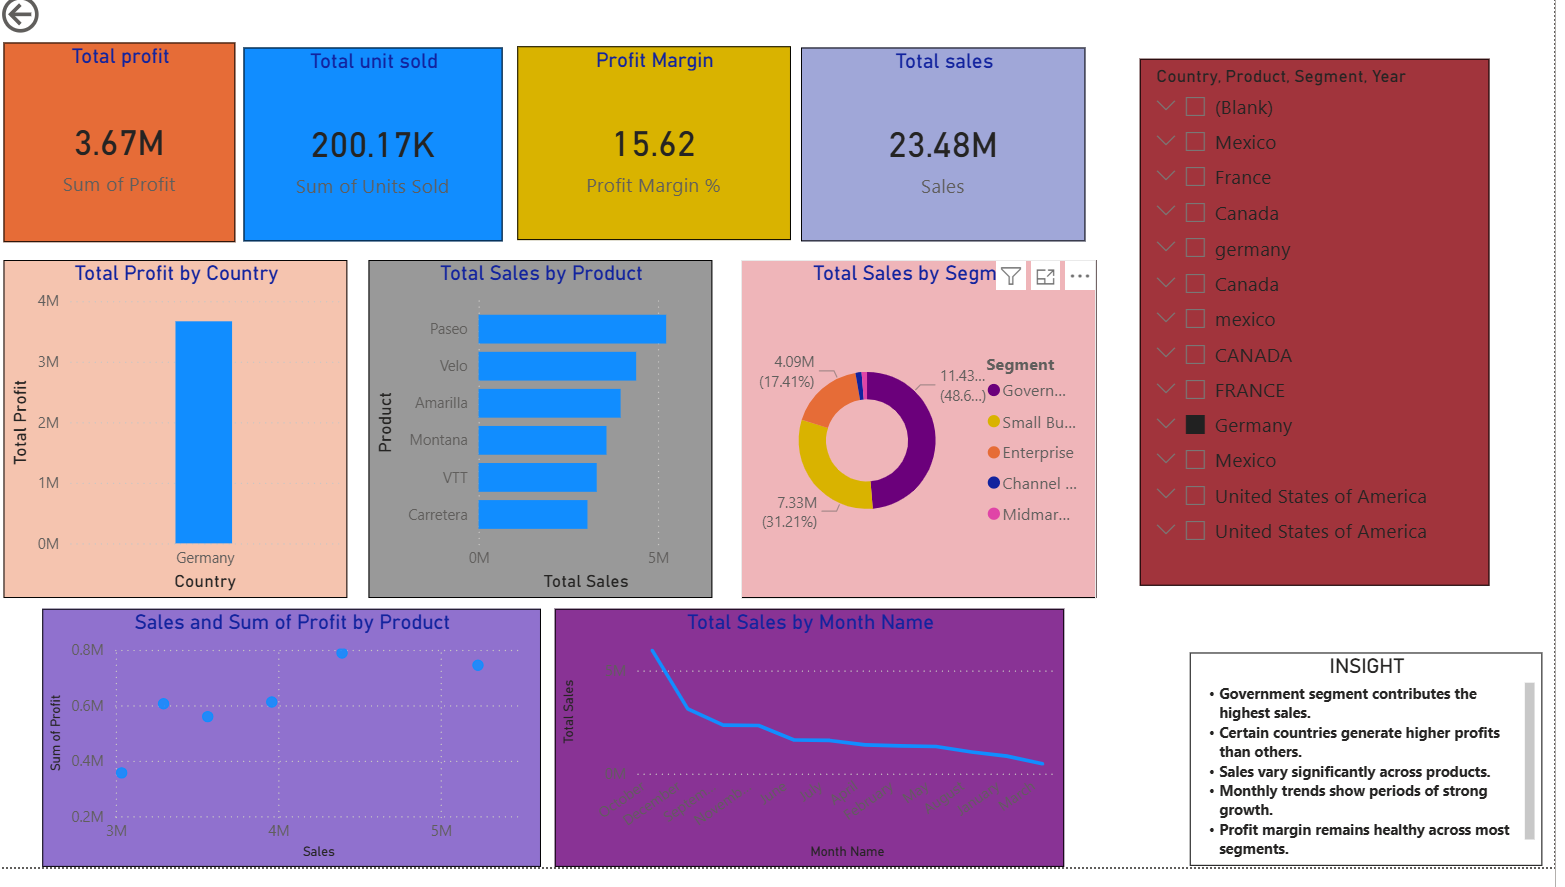

The page's visual inventory and layout, read from the dashboard file:
{"tool":"powerbi","page":{"name":"Page 1","canvas":[1280,720],"ordinal":0},"visuals":[{"type":"card","title":"Total sales","fields":{"Values":["Data.Sales"]},"box":[661.6,47.7,233.7,159.3],"z":0},{"type":"card","title":"Total profit","fields":{"Values":["Sum(Data.Profit)"]},"box":[5.8,43,190.7,164],"z":1},{"type":"card","title":"Total unit sold","fields":{"Values":["Sum(Data.Units Sold)"]},"box":[203.5,47.7,212.8,159.3],"z":2},{"type":"card","title":"Profit Margin","fields":{"Values":["Data.Profit Margin %"]},"box":[427.9,46.5,224.4,159.3],"z":3},{"type":"lineChart","fields":{"Category":["Data.Month Name"],"Y":["Data.Total Sales"]},"box":[459.3,508.1,418.6,211.6],"z":4},{"type":"clusteredColumnChart","fields":{"Category":["Data.Country"],"Y":["Data.Total Profit"]},"box":[5.8,222.1,282.6,277.9],"z":5},{"type":"barChart","fields":{"Category":["Data.Product"],"Y":["Data.Total Sales"]},"box":[305.8,222.1,282.6,277.9],"z":6},{"type":"donutChart","fields":{"Category":["Data.Segment"],"Y":["Data.Total Sales"]},"box":[611.6,222.1,291.9,277.9],"z":7},{"type":"scatterChart","fields":{"X":["Data.Sales"],"Y":["Sum(Data.Profit)"],"Category":["Data.Product"]},"box":[38.4,508.1,409.3,211.6],"z":8},{"type":"slicer","fields":{"Values":["Data.Country","Data.Product","Data.Segment","Data.Year"]},"box":[939.5,57,287.2,432.6],"z":9},{"type":"actionButton","box":[0,0,100,40],"z":10},{"type":"textbox","title":"INSIGHT","box":[980.2,544.2,289.5,175.6],"z":11}]}

Visuals, with their boxes in screenshot pixels (x1, y1, x2, y2), scaled from the page's 1280x720 canvas onto the 1565x887 screenshot:
"Total sales" card: bbox=[809, 59, 1095, 255]
"Total profit" card: bbox=[7, 53, 240, 255]
"Total unit sold" card: bbox=[249, 59, 509, 255]
"Profit Margin" card: bbox=[523, 57, 798, 254]
lineChart - Data.Month Name x Data.Total Sales: bbox=[562, 626, 1073, 886]
clusteredColumnChart - Data.Country x Data.Total Profit: bbox=[7, 274, 353, 616]
barChart - Data.Product x Data.Total Sales: bbox=[374, 274, 719, 616]
donutChart - Data.Segment x Data.Total Sales: bbox=[748, 274, 1105, 616]
scatterChart - Data.Sales x Sum(Data.Profit): bbox=[47, 626, 547, 886]
slicer - Data.Country x Data.Product: bbox=[1149, 70, 1500, 603]
actionButton: bbox=[0, 0, 122, 49]
"INSIGHT" textbox: bbox=[1198, 670, 1552, 886]
